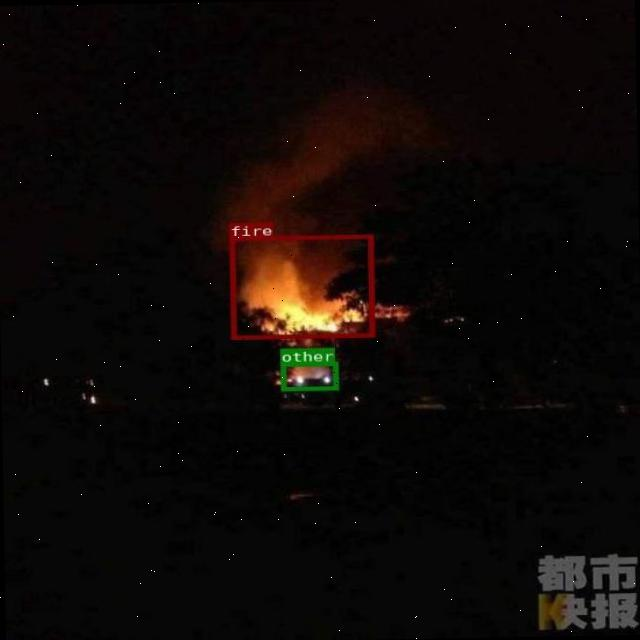fire: (228, 234, 374, 338)
